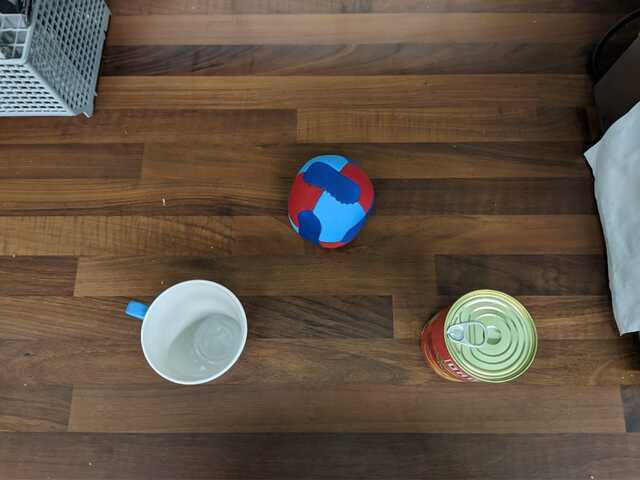005_tomato_soup_can: (420, 288, 539, 382)
025_mug: (124, 279, 248, 385)
057_racquetball: (286, 153, 377, 250)
